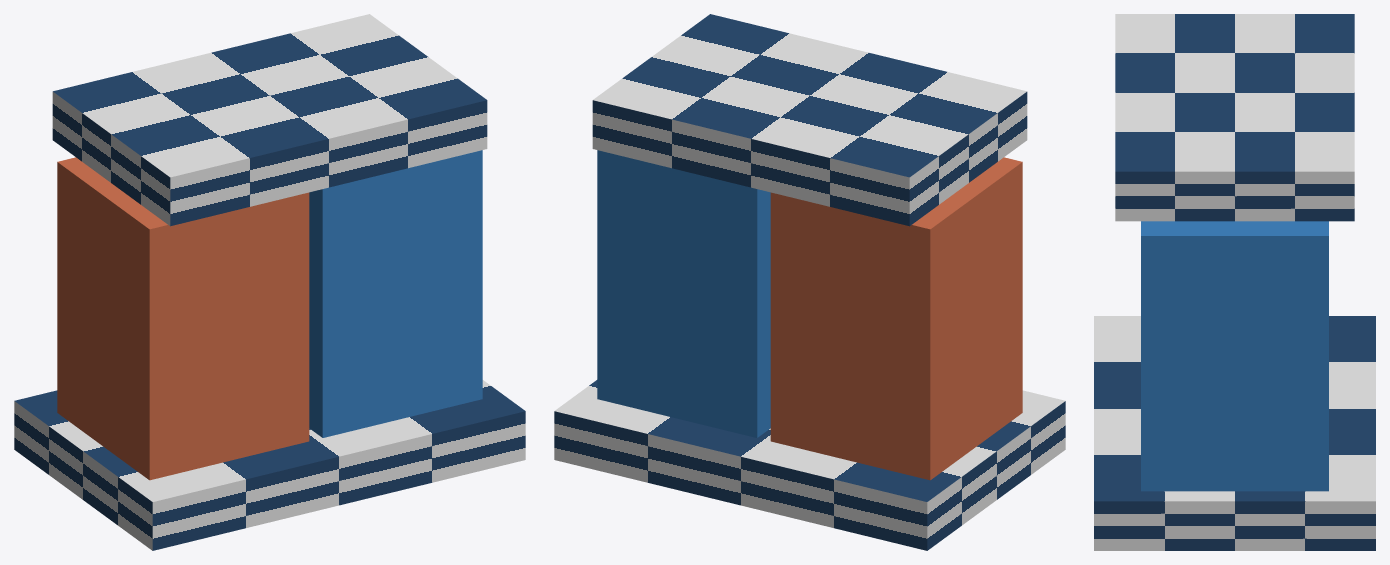
The picture shows the model from 3 angles, left to right: view 1: azimuth 30°, elevation 25°; view 2: azimuth 150°, elevation 25°; view 3: azimuth 270°, elevation 25°; orthographic projection.
Parts seen in each view (by area): view 1: Body, Top, Base; view 2: Body, Top, Base; view 3: Body, Top, Base.
Part boxes in pixels (x1,y1,x2,y2): Body: (57,150,482,480); Top: (52,14,487,226); Base: (14,380,525,550); Body: (597,150,1022,480); Top: (592,14,1027,226); Base: (554,380,1065,550); Body: (1141,221,1328,491); Top: (1115,14,1354,221); Base: (1094,316,1375,550).
Size of the model in its own units: 2.8 by 2.57 by 1.8.
3 materials, 1 textured.
